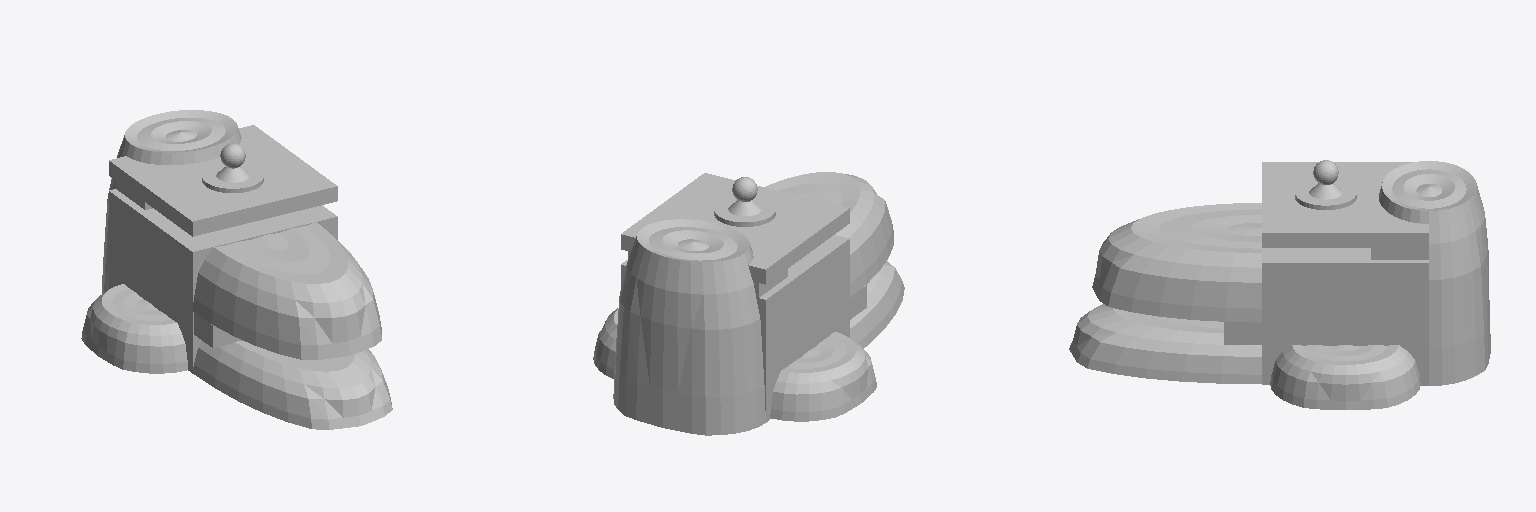
File: bunker1.obj
3 renders of one model, left to right at view 1: azimuth 30°, elevation 25°; view 2: azimuth 150°, elevation 25°; view 3: azimuth 270°, elevation 25°, orthographic.
Parts seen in each view (by area): view 1: Cylinder_Cylinder.005; view 2: Cylinder_Cylinder.005; view 3: Cylinder_Cylinder.005.
Boxes of the visible parts, box(x1,y1,x2,y2) form: Cylinder_Cylinder.005: box(81, 110, 392, 429); Cylinder_Cylinder.005: box(593, 172, 904, 435); Cylinder_Cylinder.005: box(1069, 160, 1490, 409).
Size of the model in its own units: 3.47 by 2.49 by 5.03.